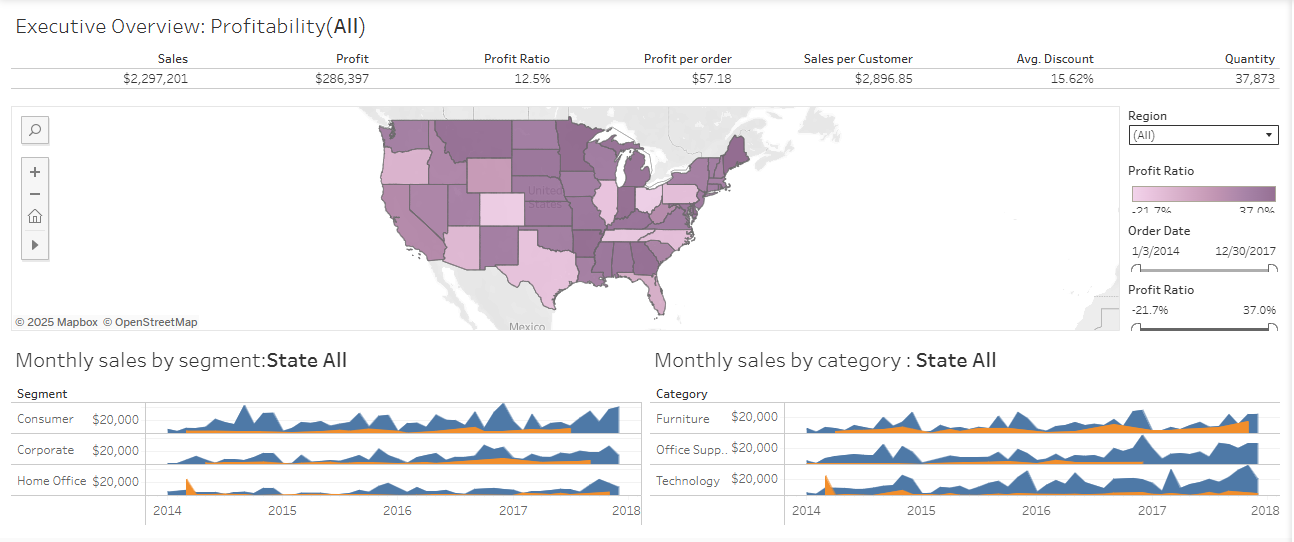

Layout of this report page (visuals, bound fields, positions):
{"tool":"tableau","page":{"name":"Executive sales","canvas":[1000,1000],"units":"permille","ordinal":0},"visuals":[{"type":"worksheet","title":"Key Performance Indicators","mark":"Automatic","box":[7.5,14.5,985.1,183]},{"type":"worksheet","title":"Profit Ratio by geography","mark":"Automatic","box":[7.5,197.5,836.1,429.4]},{"type":"filter","title":"Profit Ratio by geography","param":"[federated.02lndrh1x5qk0i19jfi541jaqlv9].[none:Region:nk]","box":[843.6,197.5,149,94.2]},{"type":"legend","title":"Profit Ratio by geography","param":"[federated.02lndrh1x5qk0i19jfi541jaqlv9].[usr:Calculation_960674163709497344:qk]","box":[843.6,291.7,149,111.7]},{"type":"filter","title":"Sales by Segment","param":"[federated.02lndrh1x5qk0i19jfi541jaqlv9].[none:Order Date:qk]","box":[843.6,403.4,149,111.7]},{"type":"filter","title":"Profit Ratio by geography","param":"[federated.02lndrh1x5qk0i19jfi541jaqlv9].[usr:Calculation_960674163709497344:qk]","box":[843.6,515.1,149,111.7]},{"type":"worksheet","title":"Sales by Segment","mark":"Area","rows":["Segment","Sales"],"cols":["Order Date"],"box":[7.5,626.8,492.6,358.7]},{"type":"worksheet","title":"Sales by Category","mark":"Area","rows":["Category","Sales"],"cols":["Order Date"],"box":[500,626.8,492.6,358.7]}]}

Visuals, with their boxes on the dashboard's canvas, which has no fixed pixel size, in thousandths of its width and height (x1, y1, x2, y2). These are canvas units, not pixel positions in the 1294x542 screenshot, which may show the page scaled, cropped or inside an application window:
"Key Performance Indicators" worksheet: [8,14,993,198]
"Profit Ratio by geography" worksheet: [8,198,844,627]
"Profit Ratio by geography" filter: [844,198,993,292]
"Profit Ratio by geography" legend: [844,292,993,403]
"Sales by Segment" filter: [844,403,993,515]
"Profit Ratio by geography" filter: [844,515,993,627]
"Sales by Segment" worksheet (Area marks): [8,627,500,986]
"Sales by Category" worksheet (Area marks): [500,627,993,986]
